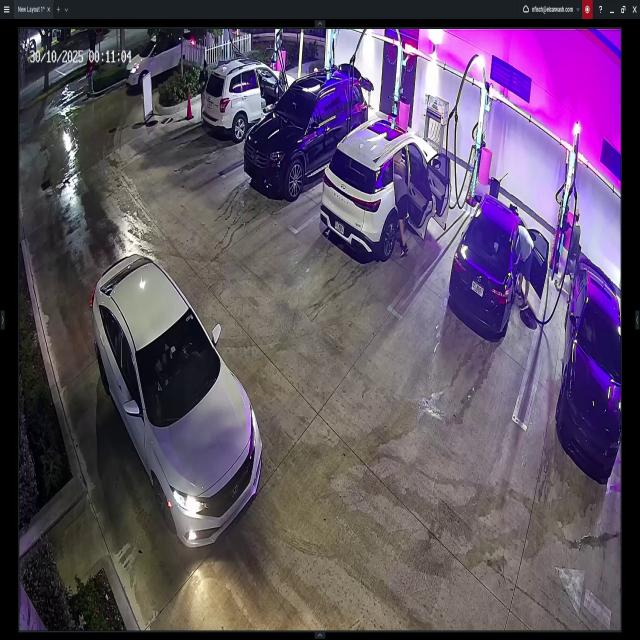Car: (90, 251, 264, 553), (324, 118, 450, 253), (248, 68, 366, 196), (559, 249, 621, 481), (449, 198, 545, 337), (201, 56, 298, 139), (127, 30, 196, 94)
